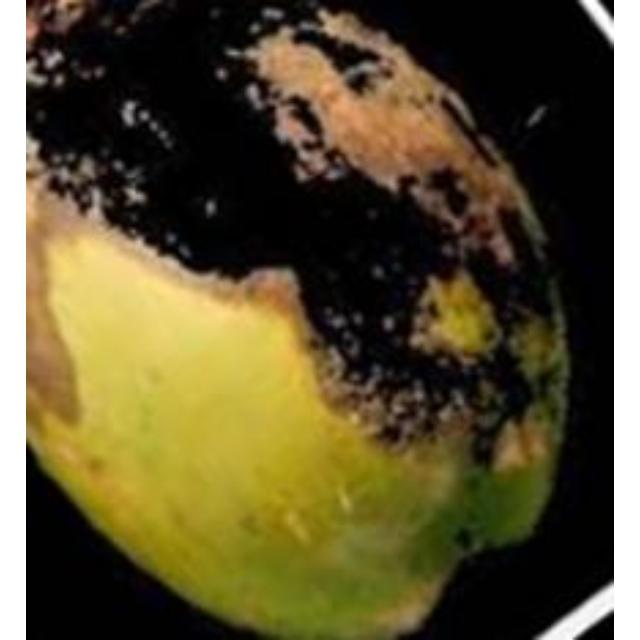damaged: (26, 0, 573, 637)
